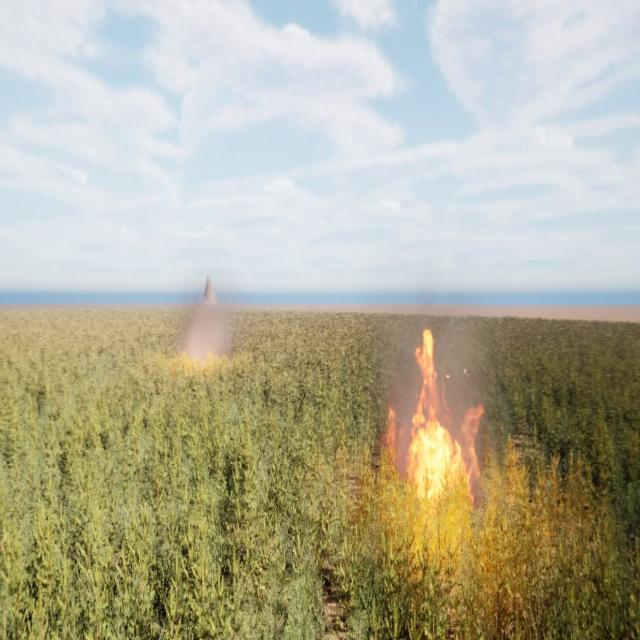fire: (385, 326, 486, 496)
smoke: (175, 282, 238, 366), (434, 326, 472, 448), (389, 331, 418, 471)
